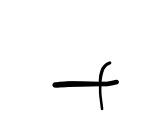plus: (53, 61, 118, 110)
